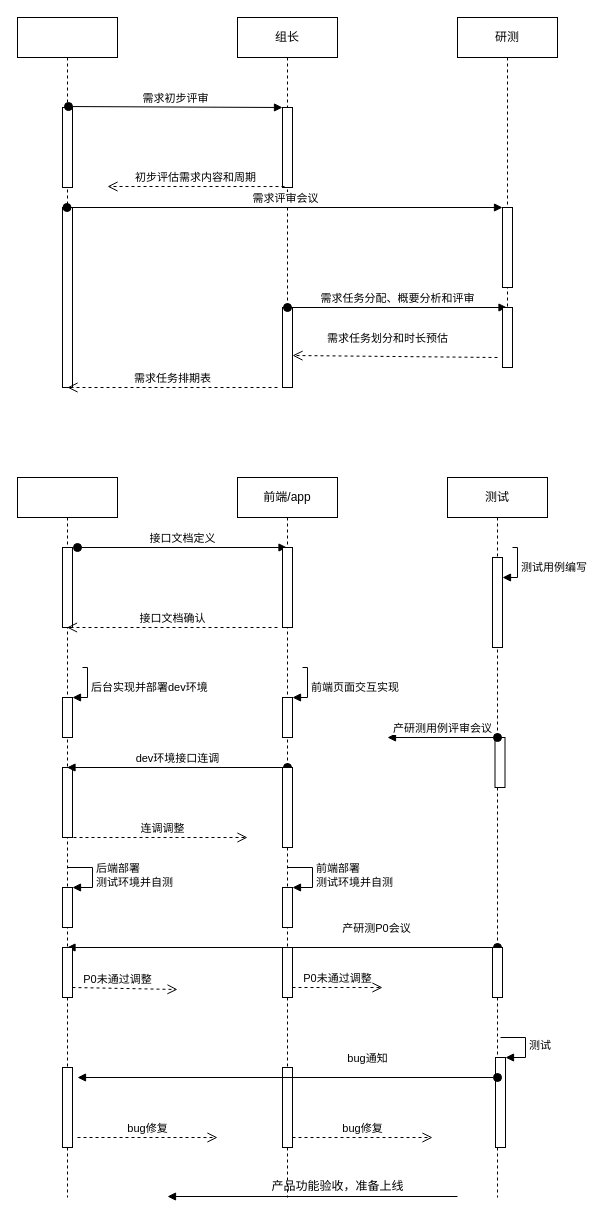
Image size: 605x1222. Some labels were removed from this diagram. Each missing label, with the centre of its shape:
"产品" goes at (x=67, y=202).
"后台" goes at (x=67, y=837).
